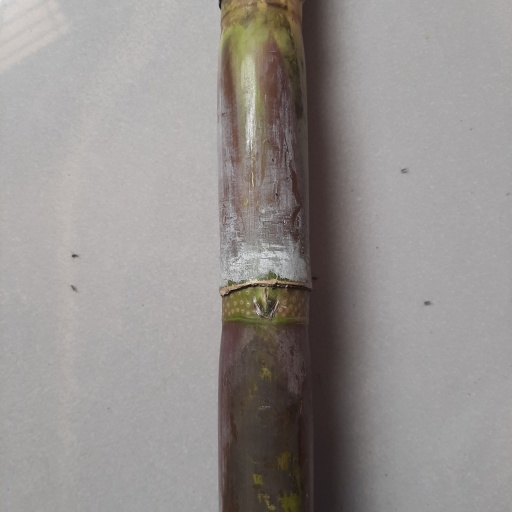Bud: (252, 286, 277, 316)
